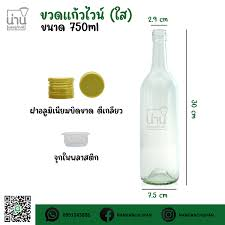glass_bottle: (133, 27, 184, 187)
